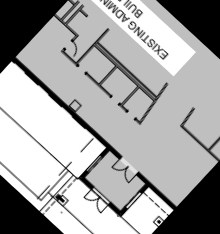double door: (79, 184, 113, 217), (108, 154, 140, 186)
wall: (11, 56, 124, 162), (133, 168, 178, 211), (106, 200, 129, 222), (76, 173, 97, 193)
